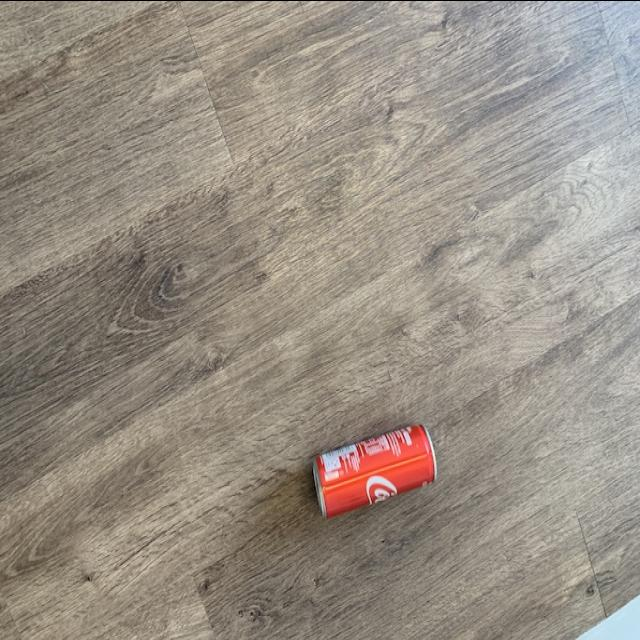litter: (304, 403, 458, 525)
